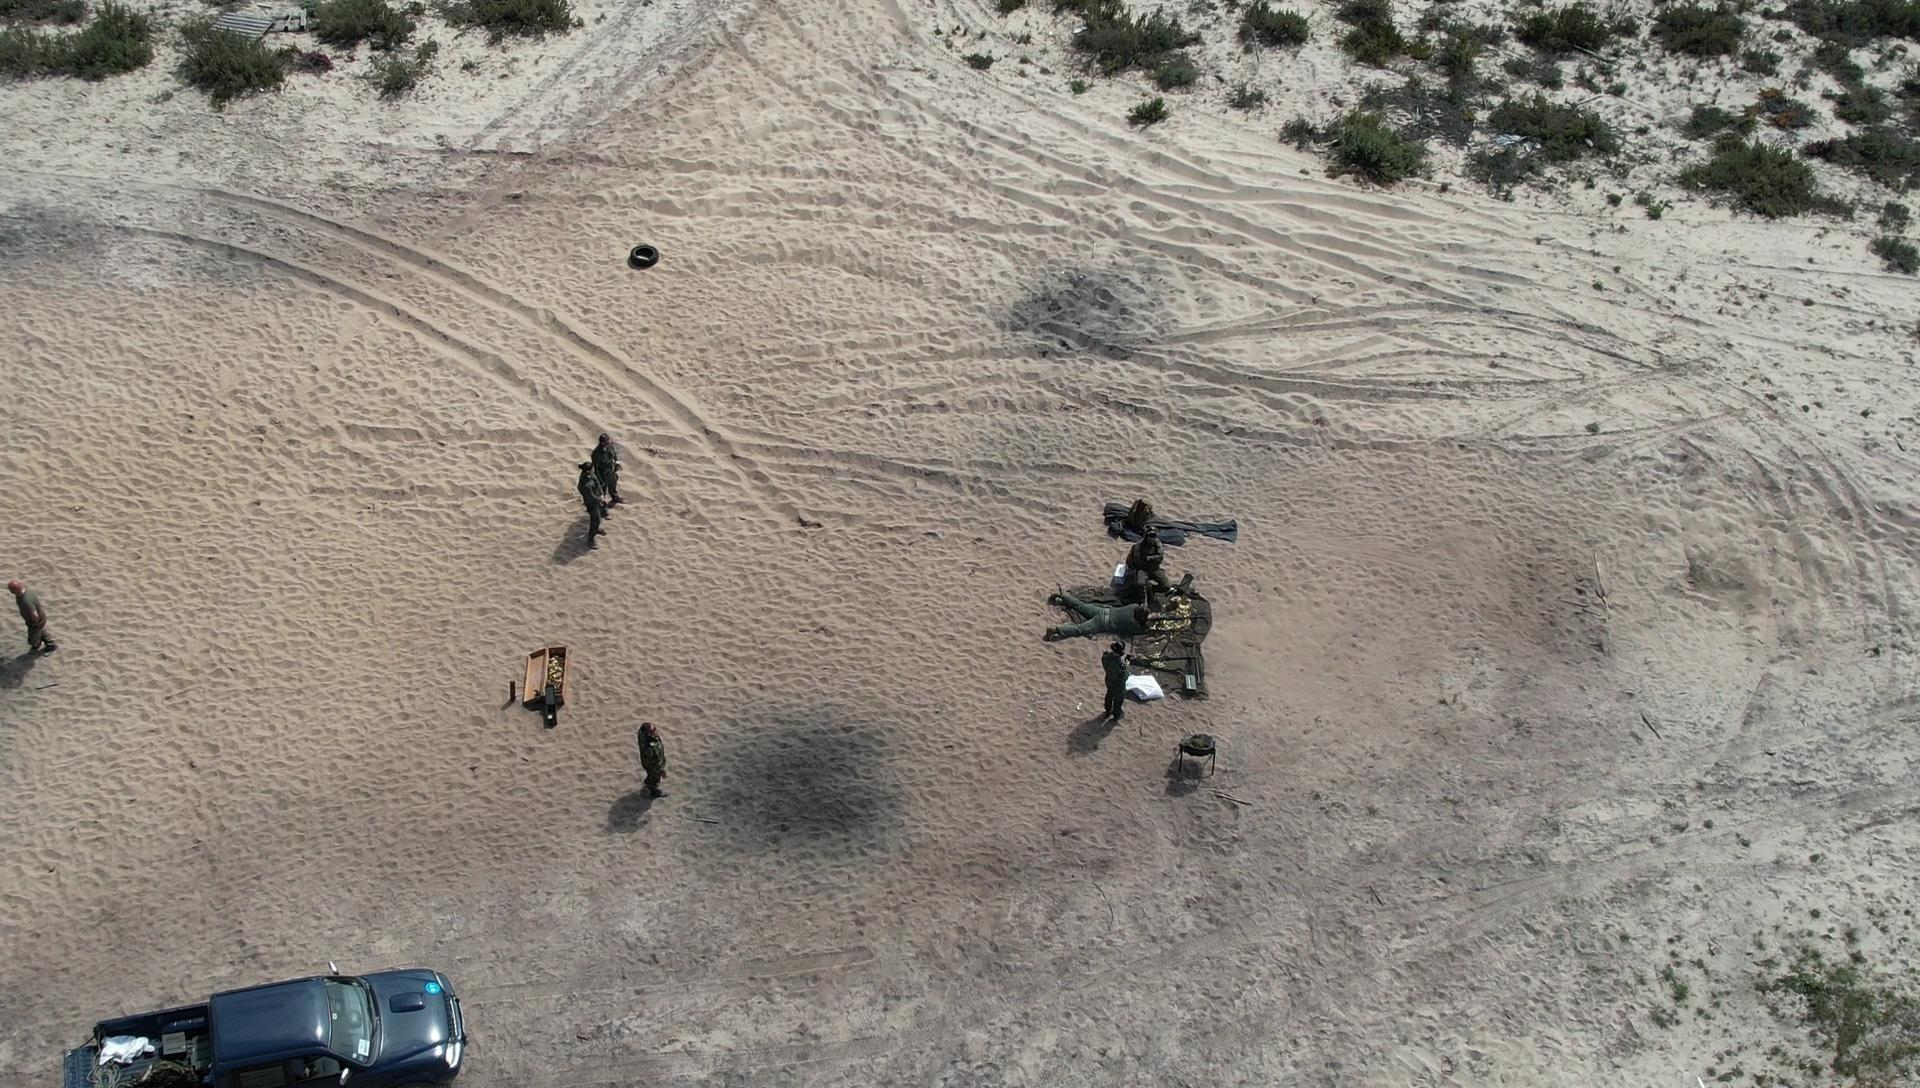Soldier: (1055, 582, 1182, 658), (1, 580, 69, 704), (613, 719, 687, 823), (575, 433, 630, 530), (1098, 638, 1149, 745), (1120, 528, 1175, 622), (580, 444, 613, 543)
